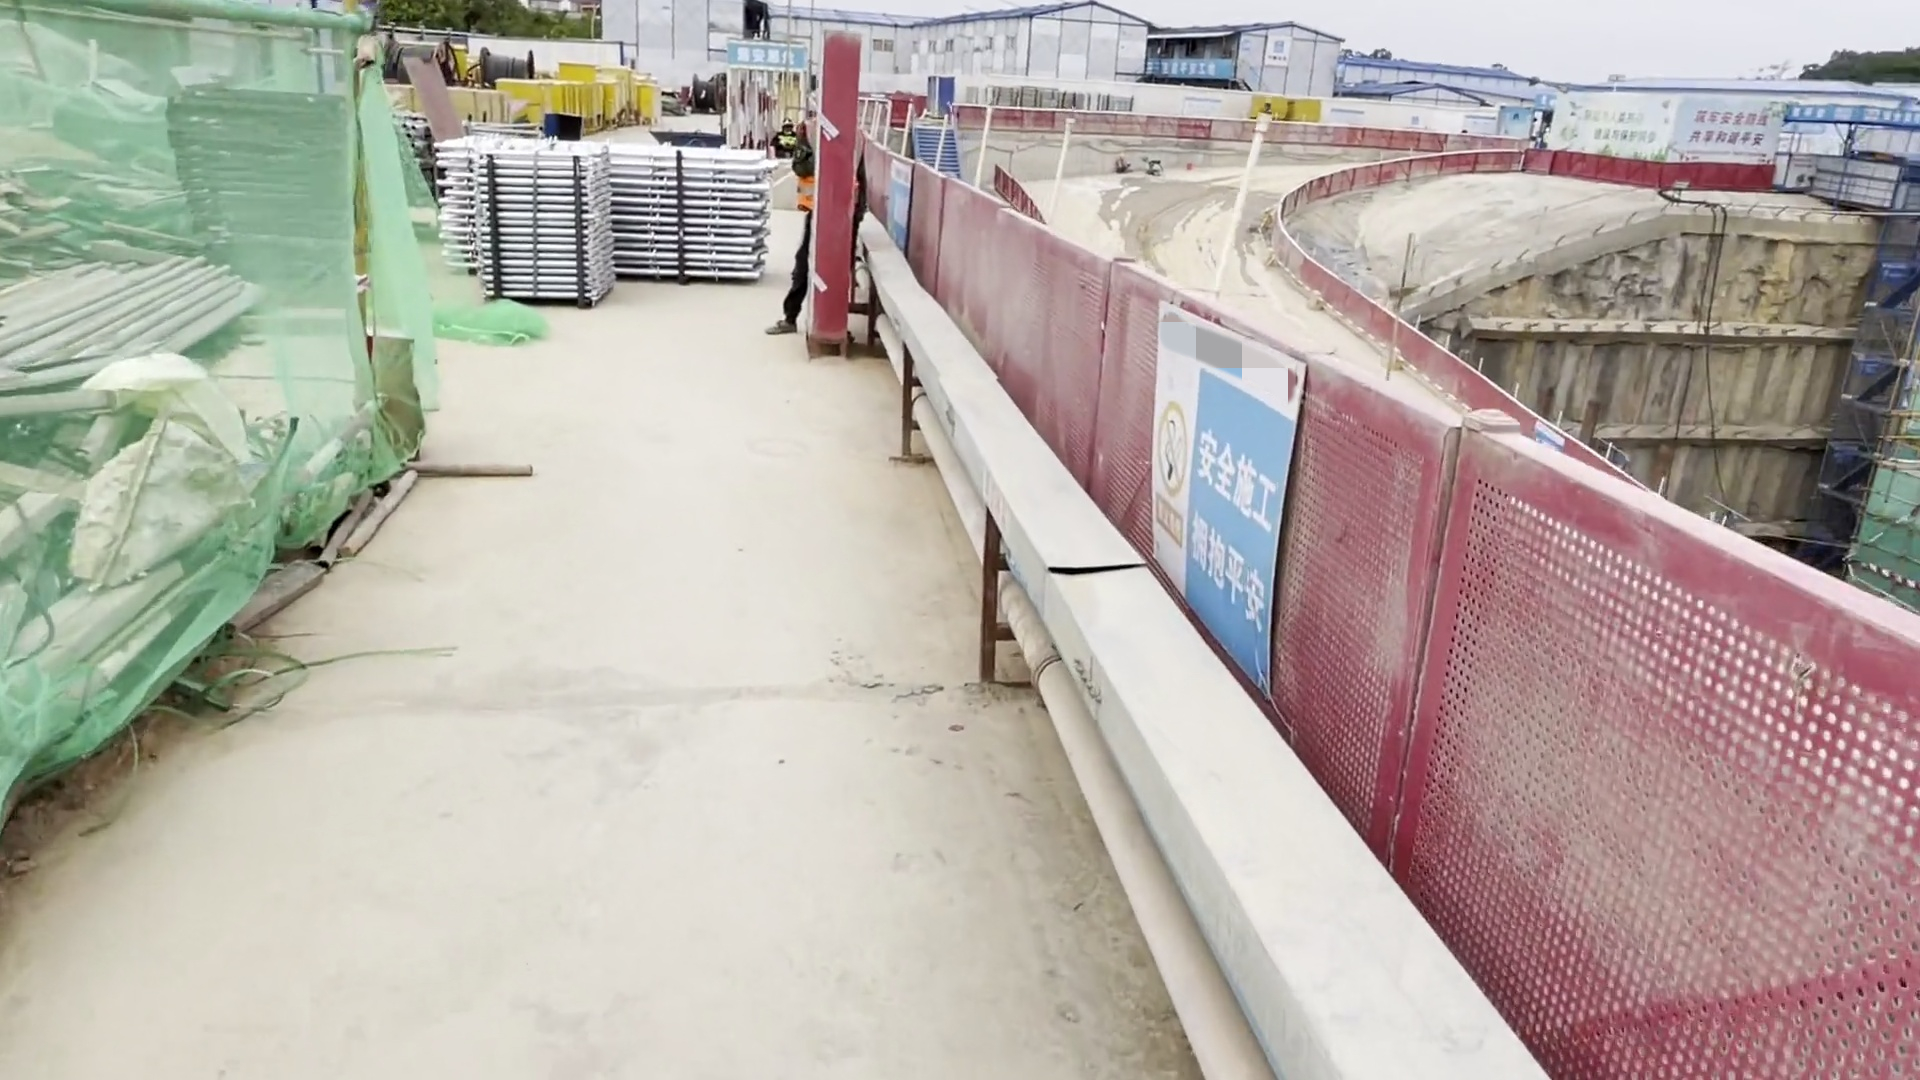person: (774, 88, 878, 361)
scaffold: (411, 130, 777, 299)
slogan: (1140, 284, 1309, 696), (1539, 69, 1819, 180)
